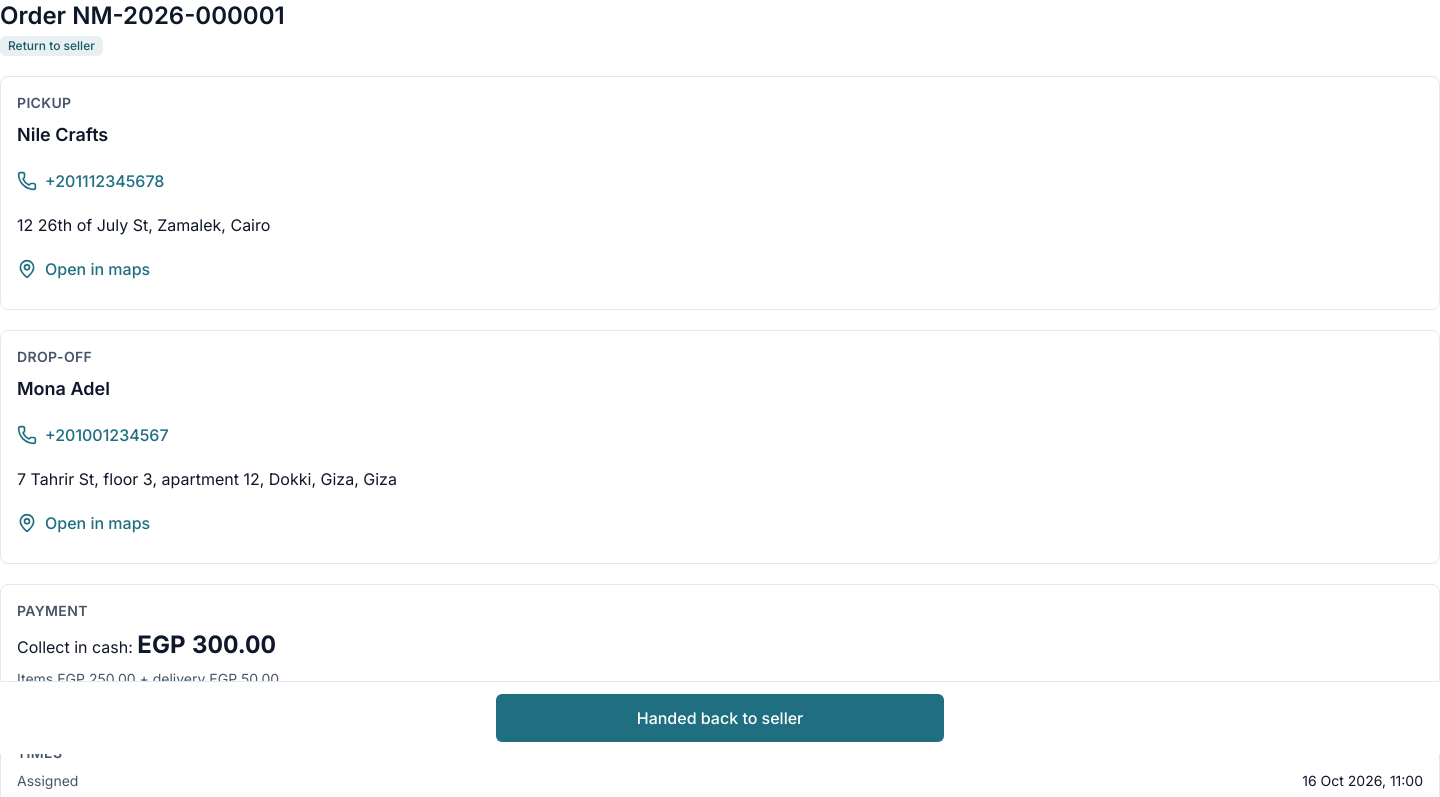
shipment (spec 04 AG-05) › returning: "Handed back" only when cancelled after pickup (AG-Q-1), with a key
This screenshot has width=1440, height=797.
Step 1. Click the button "Handed back to seller" → [720, 718], box [496,694,944,742]
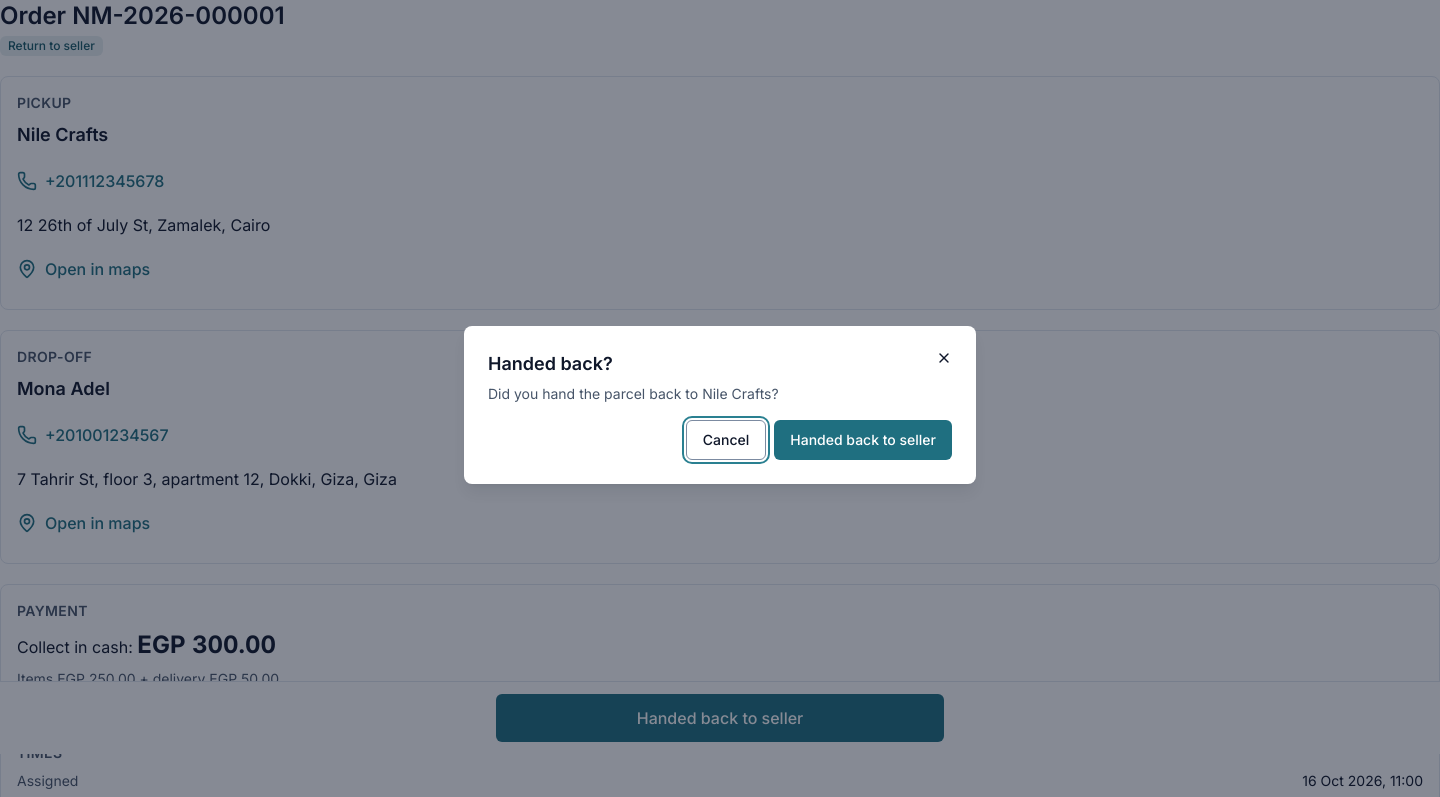
Step 2. Click the button "Handed back to seller" → [863, 440], box [774,420,952,460]
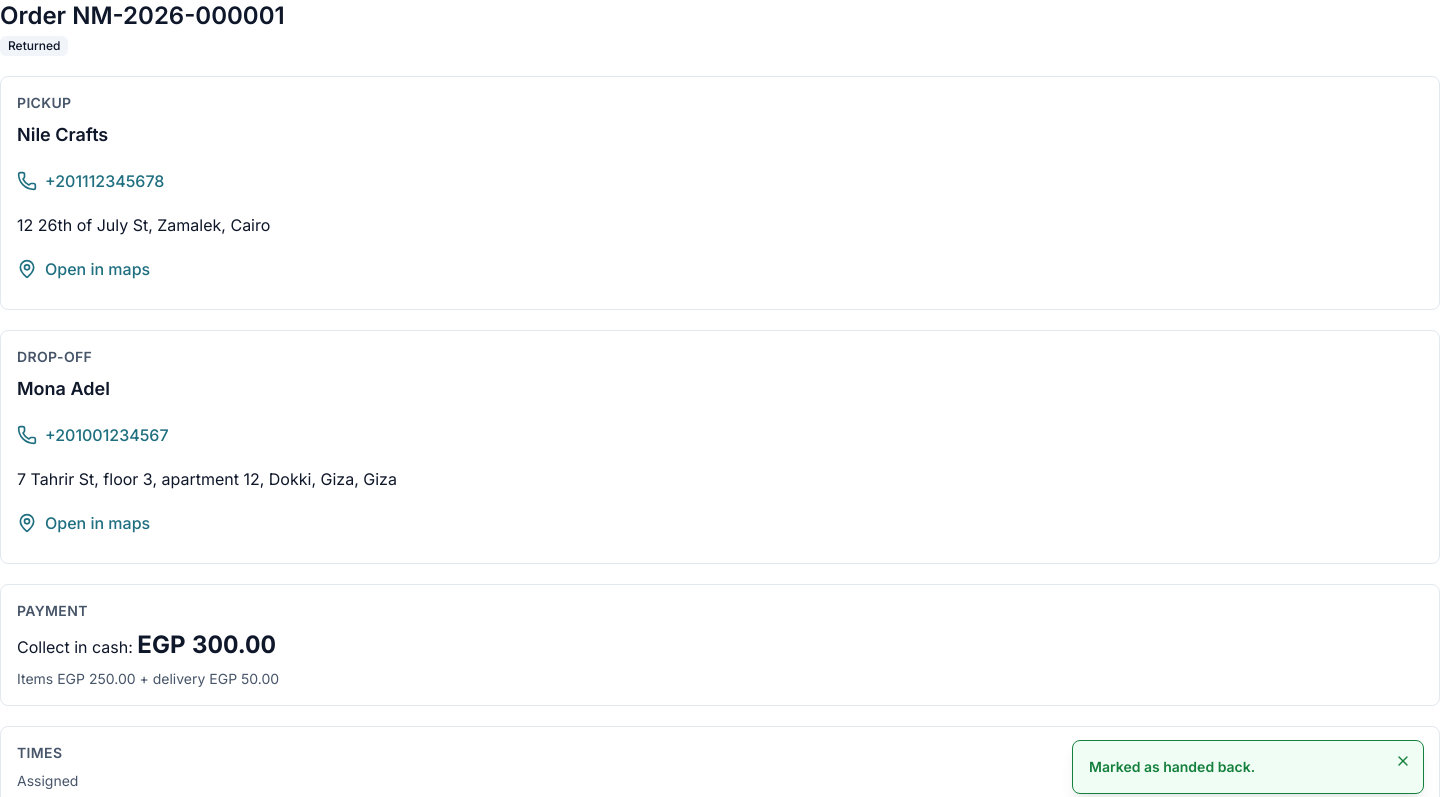
Expected: the text "Marked as handed back." is shown, [1089,758,1255,775]
